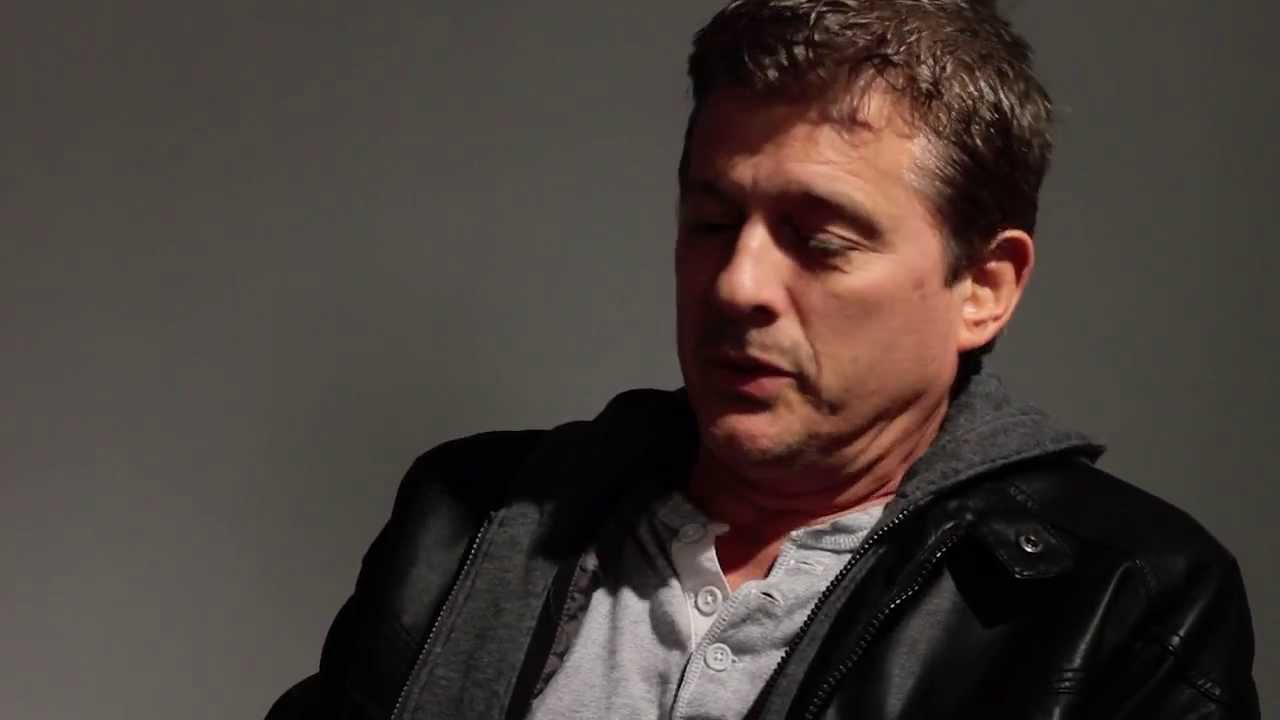bad: (598, 134, 919, 455)
